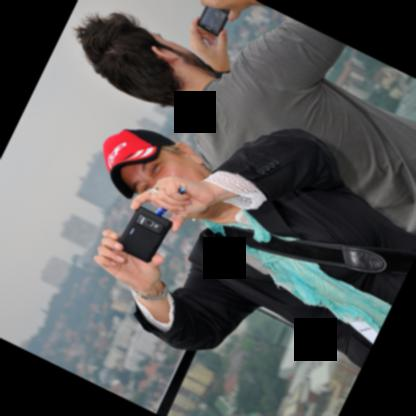handbag: (224, 224, 416, 274)
